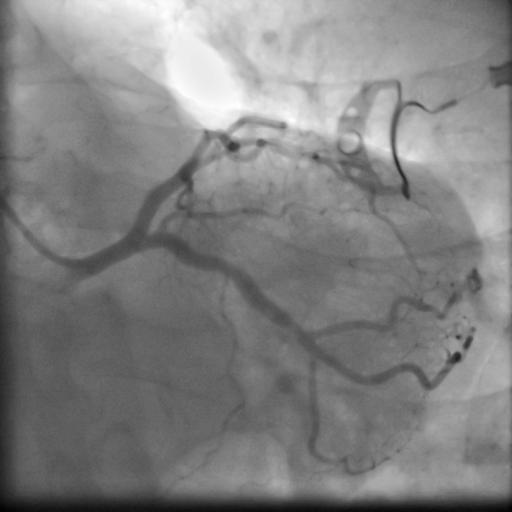Stenosis: (288, 314, 304, 342)
